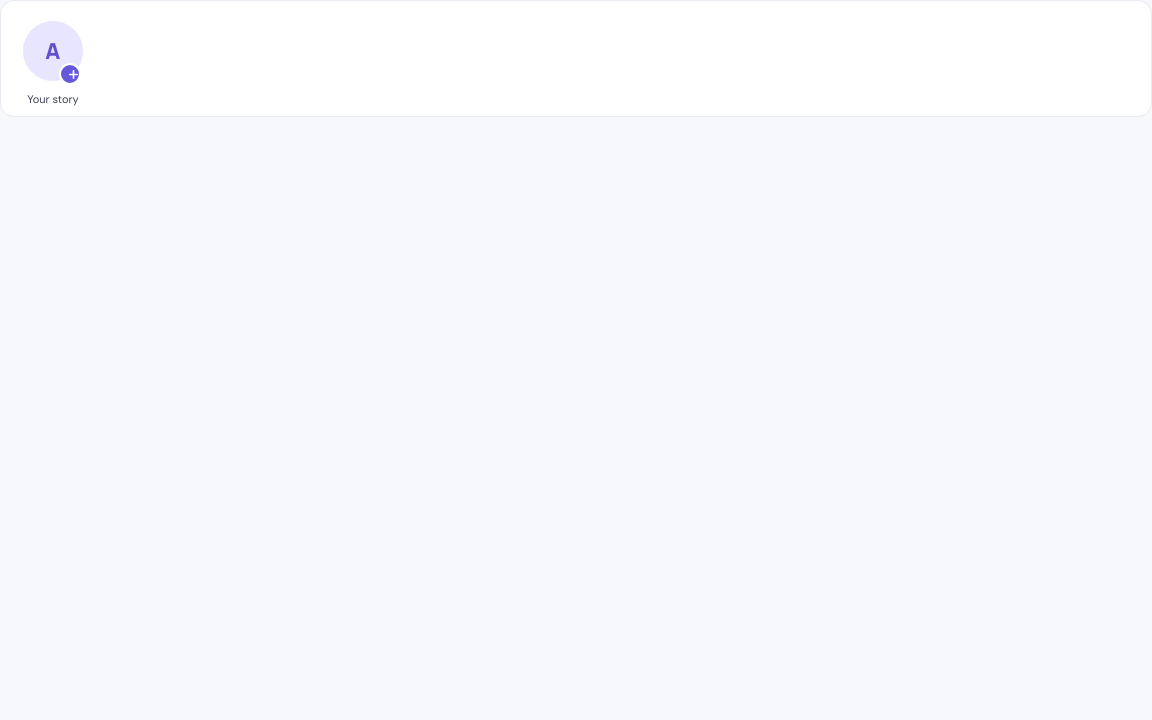
Scenario: StoriesBar › opens the story composer from "Your story"
The width and height of the screenshot is (1152, 720).
Click the button named "Create a new story" at coordinates (70, 74), box x1=59 y1=63 x2=81 y2=85
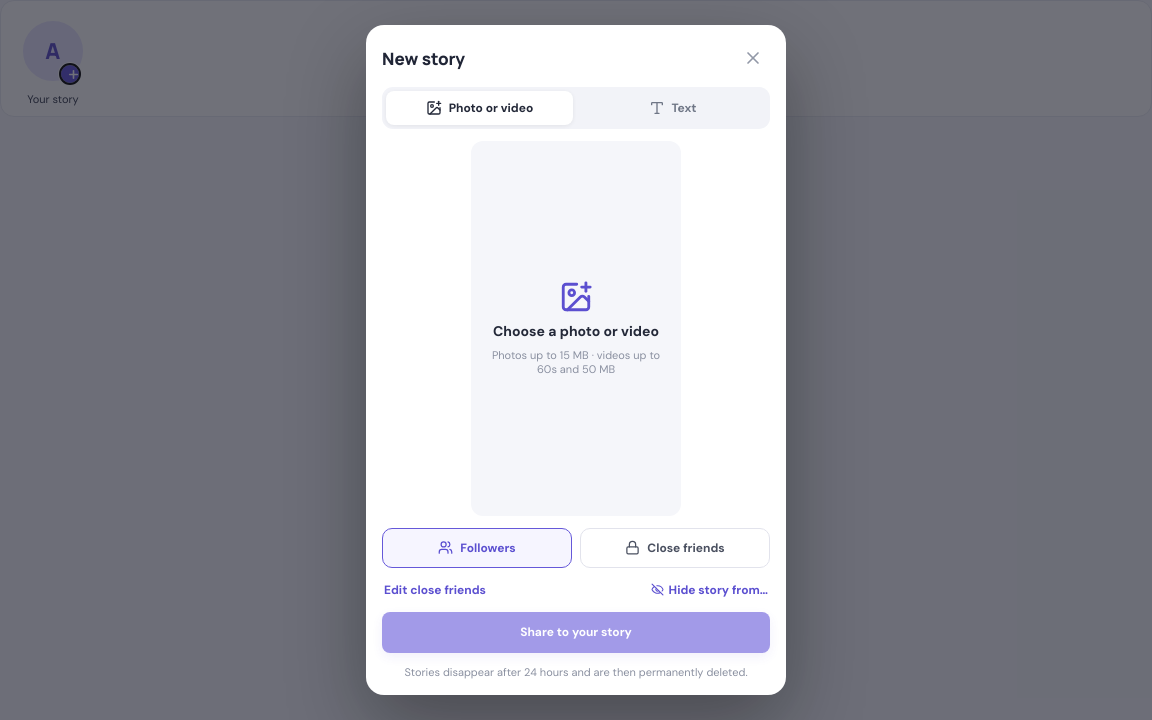
expect the dialog named "Create a story" is shown: met, box x1=366 y1=25 x2=786 y2=695
